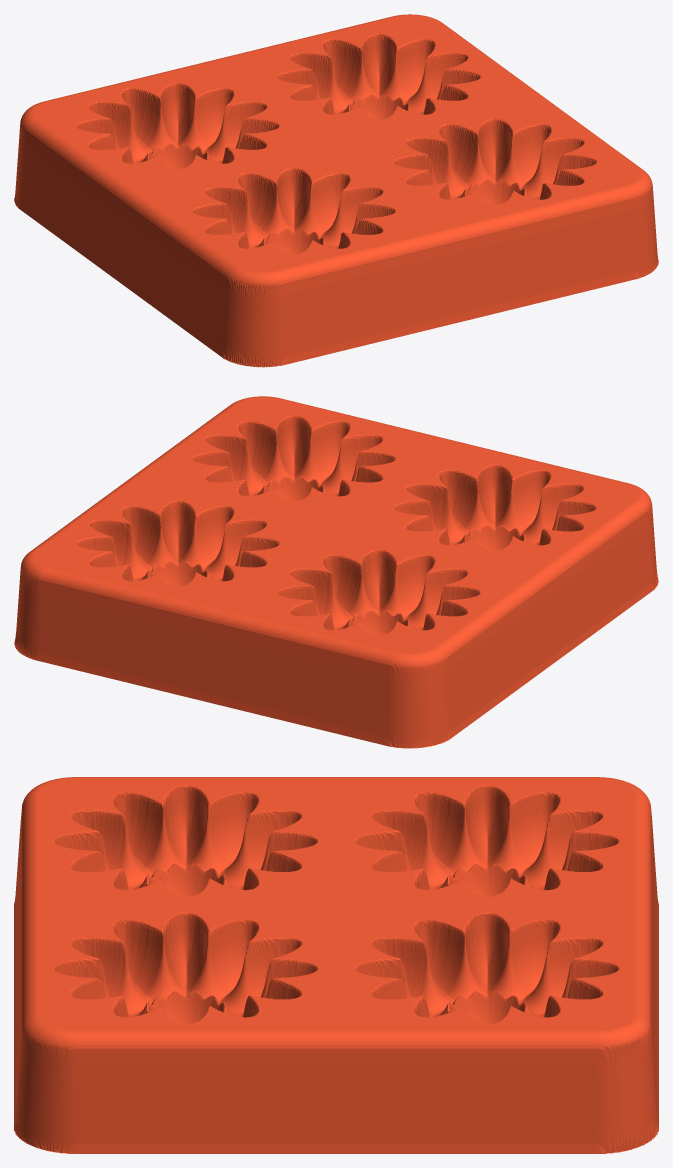
Rendered from mold.glb.
3 renders of one model, top to bottom at view 1: azimuth 30°, elevation 25°; view 2: azimuth 150°, elevation 25°; view 3: azimuth 270°, elevation 25°, orthographic. The views are drawn at different scales.
Parts seen in each view (by area): view 1: geometry_0; view 2: geometry_0; view 3: geometry_0.
Part boxes in pixels (x1=…): geometry_0: x1=14, y1=14, x2=658, y2=367; geometry_0: x1=14, y1=396, x2=658, y2=748; geometry_0: x1=14, y1=777, x2=658, y2=1153.
Bounding box in the file's own units: 0.0942 × 0.0182 × 0.0942.
